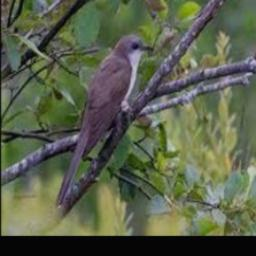Cuckoo: (55, 35, 153, 207)
